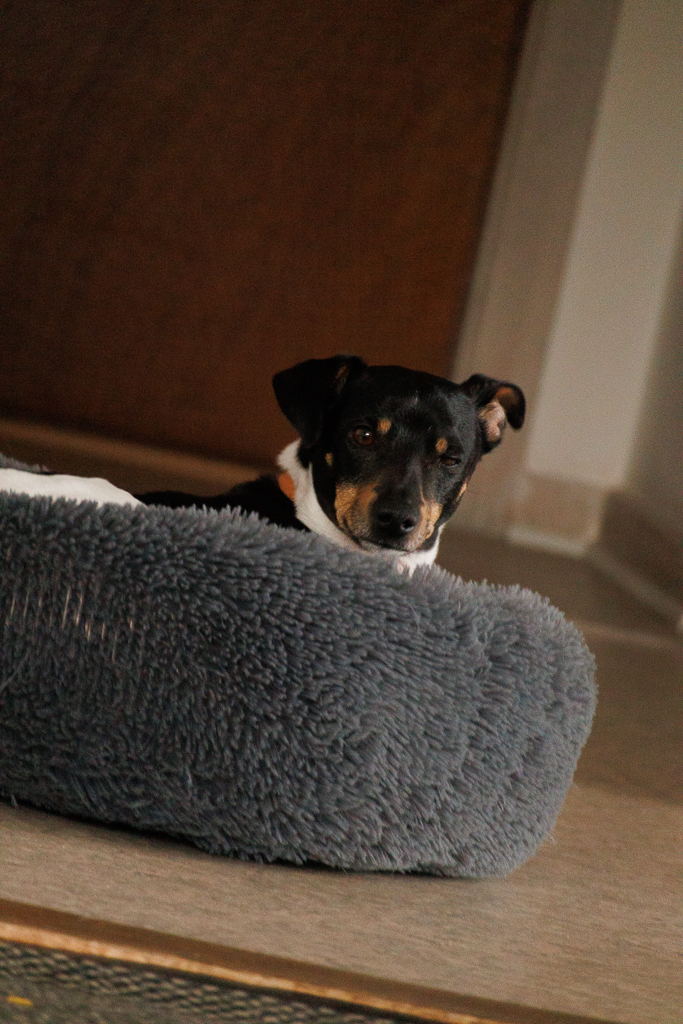Dog: (0, 349, 541, 586)
